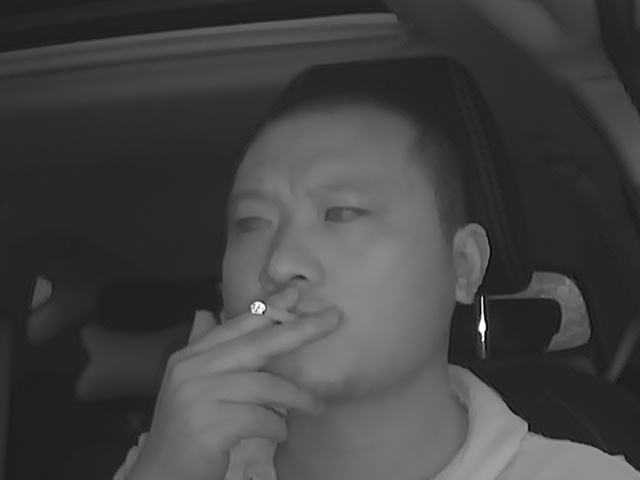hand: (187, 290, 334, 460)
